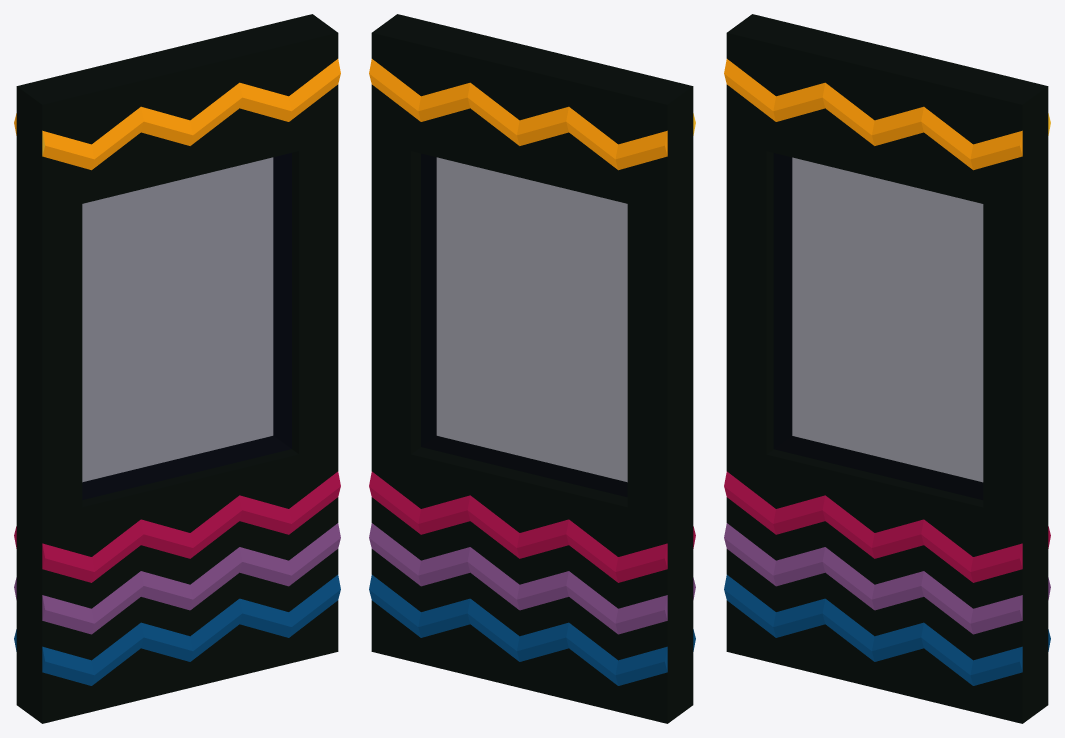
File: ZigzagWindow.glb
3 views of the same model, side by side, from view 1: azimuth 30°, elevation 25°; view 2: azimuth 150°, elevation 25°; view 3: azimuth 330°, elevation 25° (orthographic).
Visible parts, largest first — view 1: wall_zigzag_window; view 2: wall_zigzag_window; view 3: wall_zigzag_window.
Part boxes in pixels (x1=…): wall_zigzag_window: x1=14, y1=14, x2=340, y2=723; wall_zigzag_window: x1=369, y1=14, x2=695, y2=723; wall_zigzag_window: x1=724, y1=14, x2=1050, y2=723.
Size of what is drawn, in the model's own units: 2 by 4 by 0.3655.
2 materials, 2 textured.
